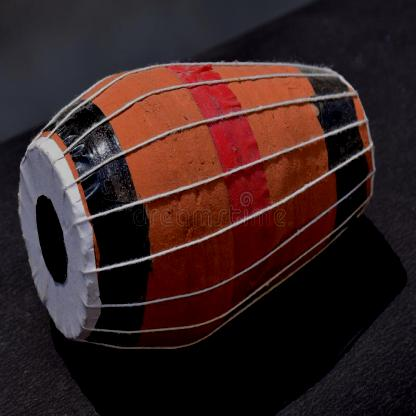Mridangam: (13, 43, 396, 358)
